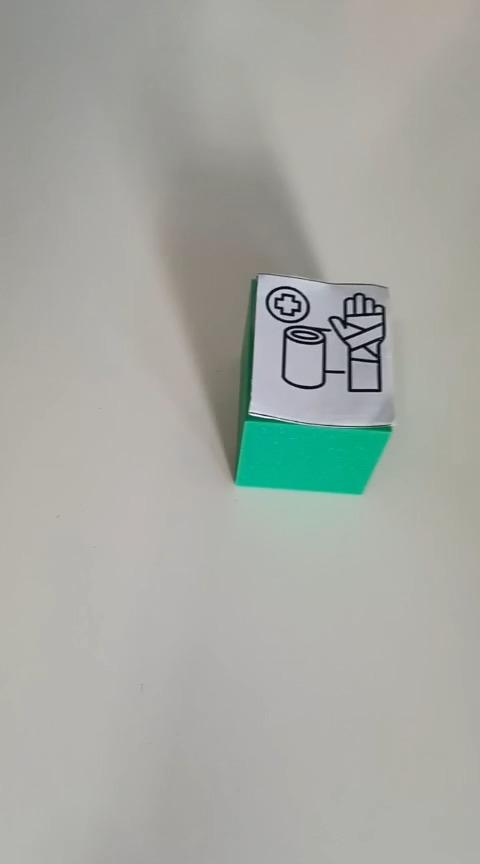Bandages: (233, 271, 396, 495)
